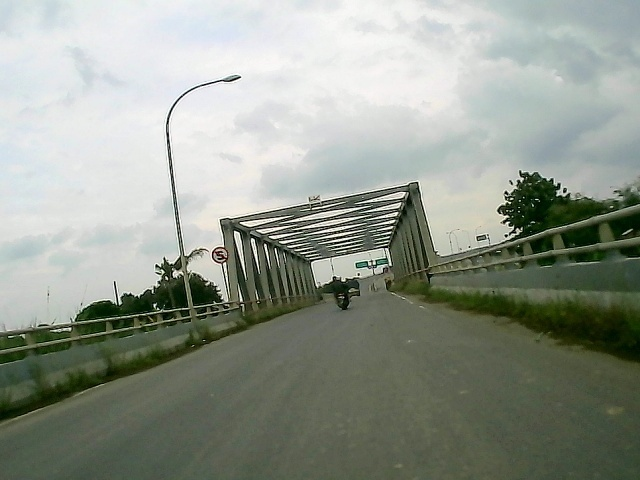Dilarang berhenti: (209, 246, 231, 264)
